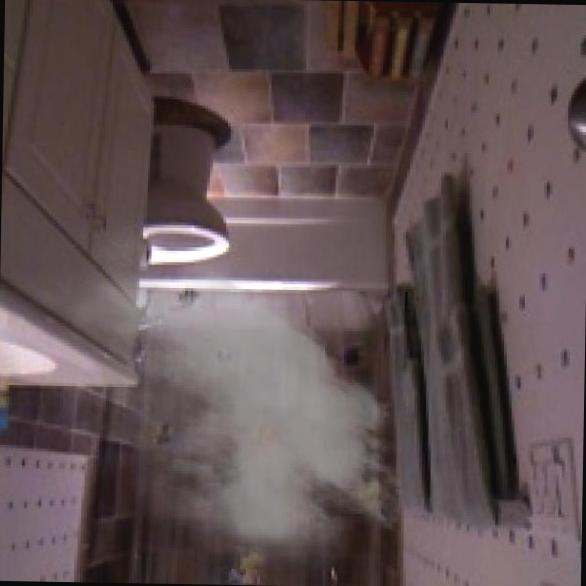smoke: (6, 225, 420, 586)
